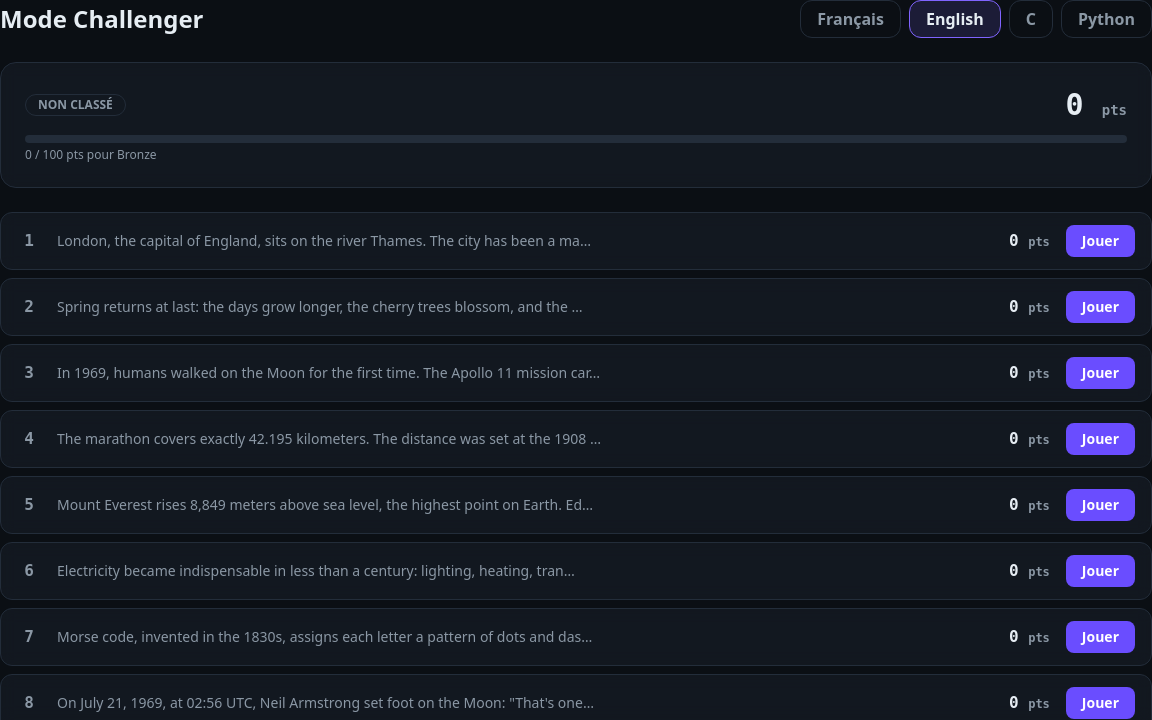
Test: ChallengerPage › démarre une run challenger C avec le code brut multi-lignes
Click the button "C". click: (1031, 19)
box: [1009,0,1053,38]
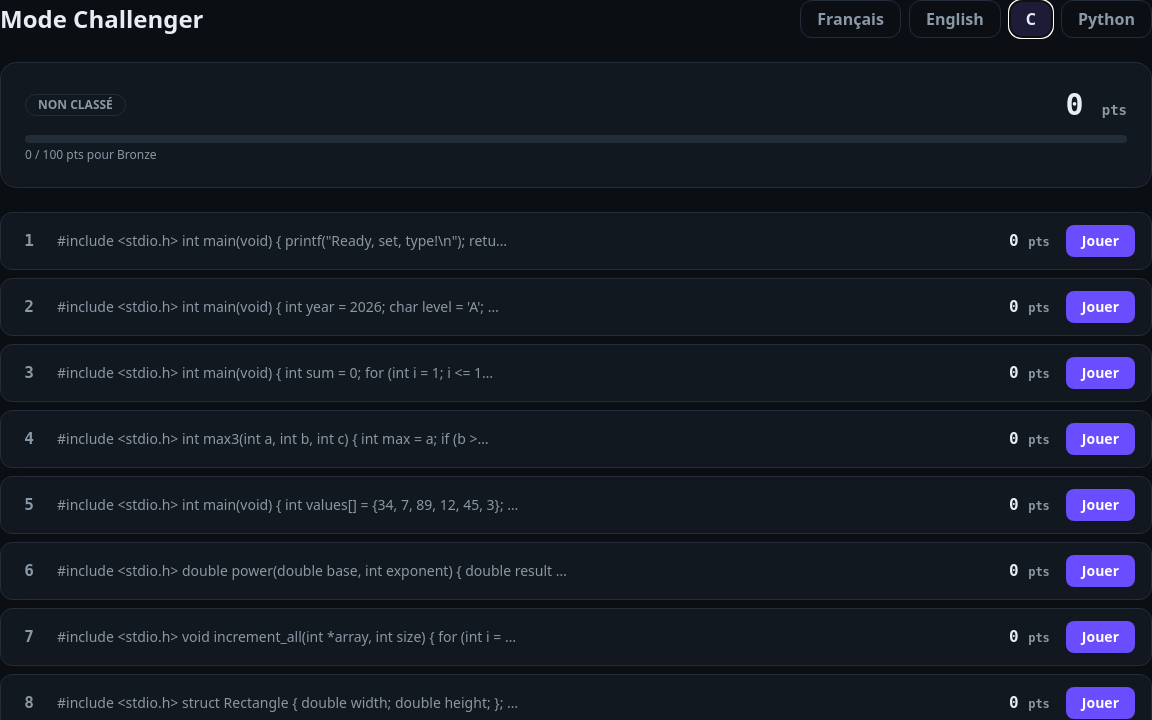
Click the 1st button "Jouer". click: (1100, 241)
box: [1066,225,1135,257]
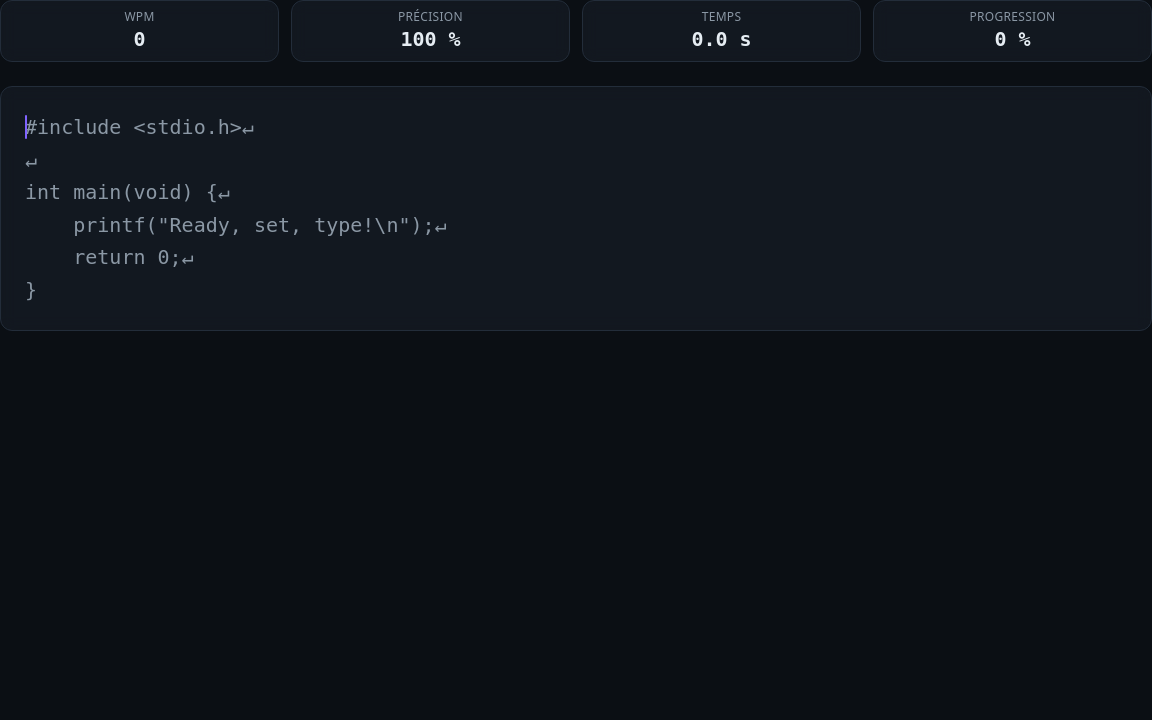
Expected: the element with test id "typing-area" is shown, [0,86,1151,331]
